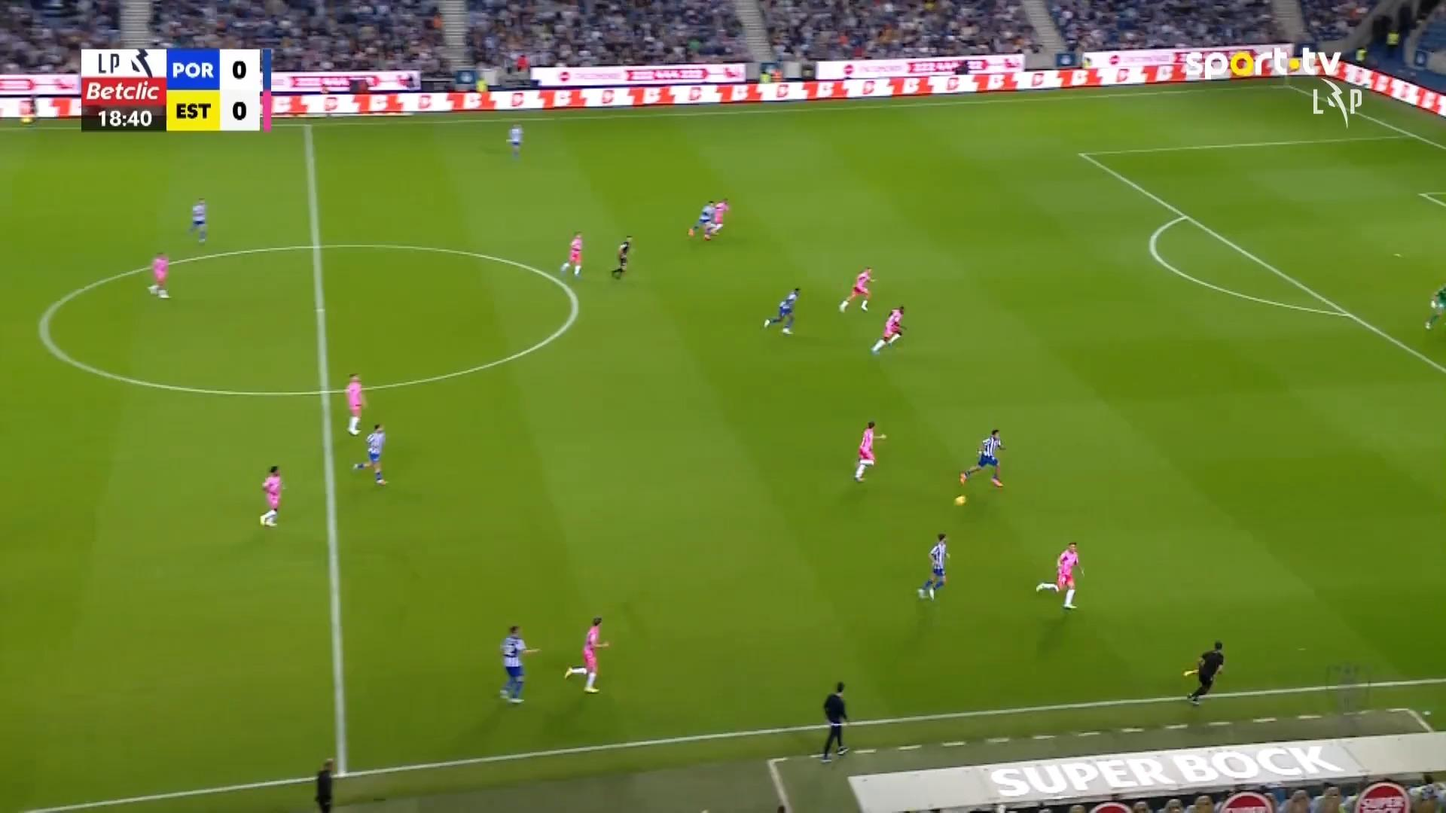ball: (953, 495, 966, 505)
goalkeeper: (1423, 285, 1444, 330)
player: (563, 616, 609, 693), (1035, 541, 1084, 609), (498, 624, 540, 703), (958, 428, 1005, 488), (352, 422, 388, 485), (917, 532, 949, 600), (853, 420, 886, 482), (762, 286, 801, 335), (870, 304, 905, 354), (838, 266, 875, 312), (259, 464, 282, 527), (344, 373, 365, 435), (687, 199, 716, 240), (560, 230, 584, 277), (704, 197, 730, 239), (147, 251, 170, 298), (189, 197, 207, 244), (506, 123, 523, 157)
referee: (1182, 640, 1225, 705), (820, 681, 850, 762), (314, 757, 334, 811), (611, 235, 633, 279)
